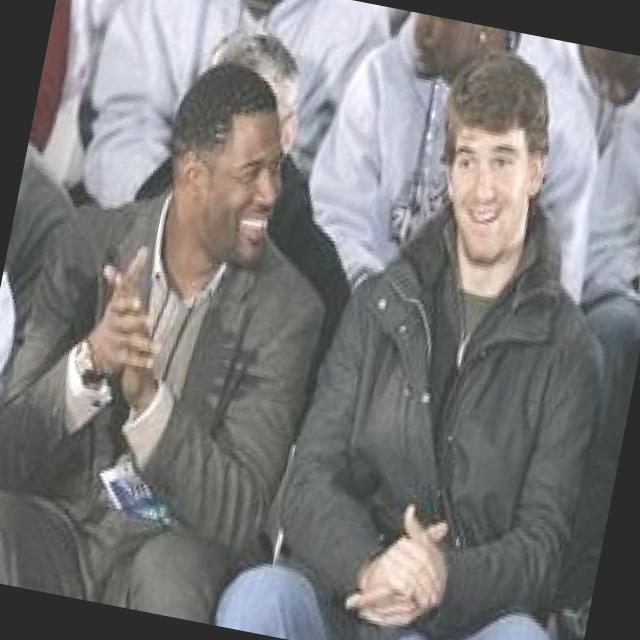no_vest: (267, 205, 640, 630), (0, 155, 339, 571)
